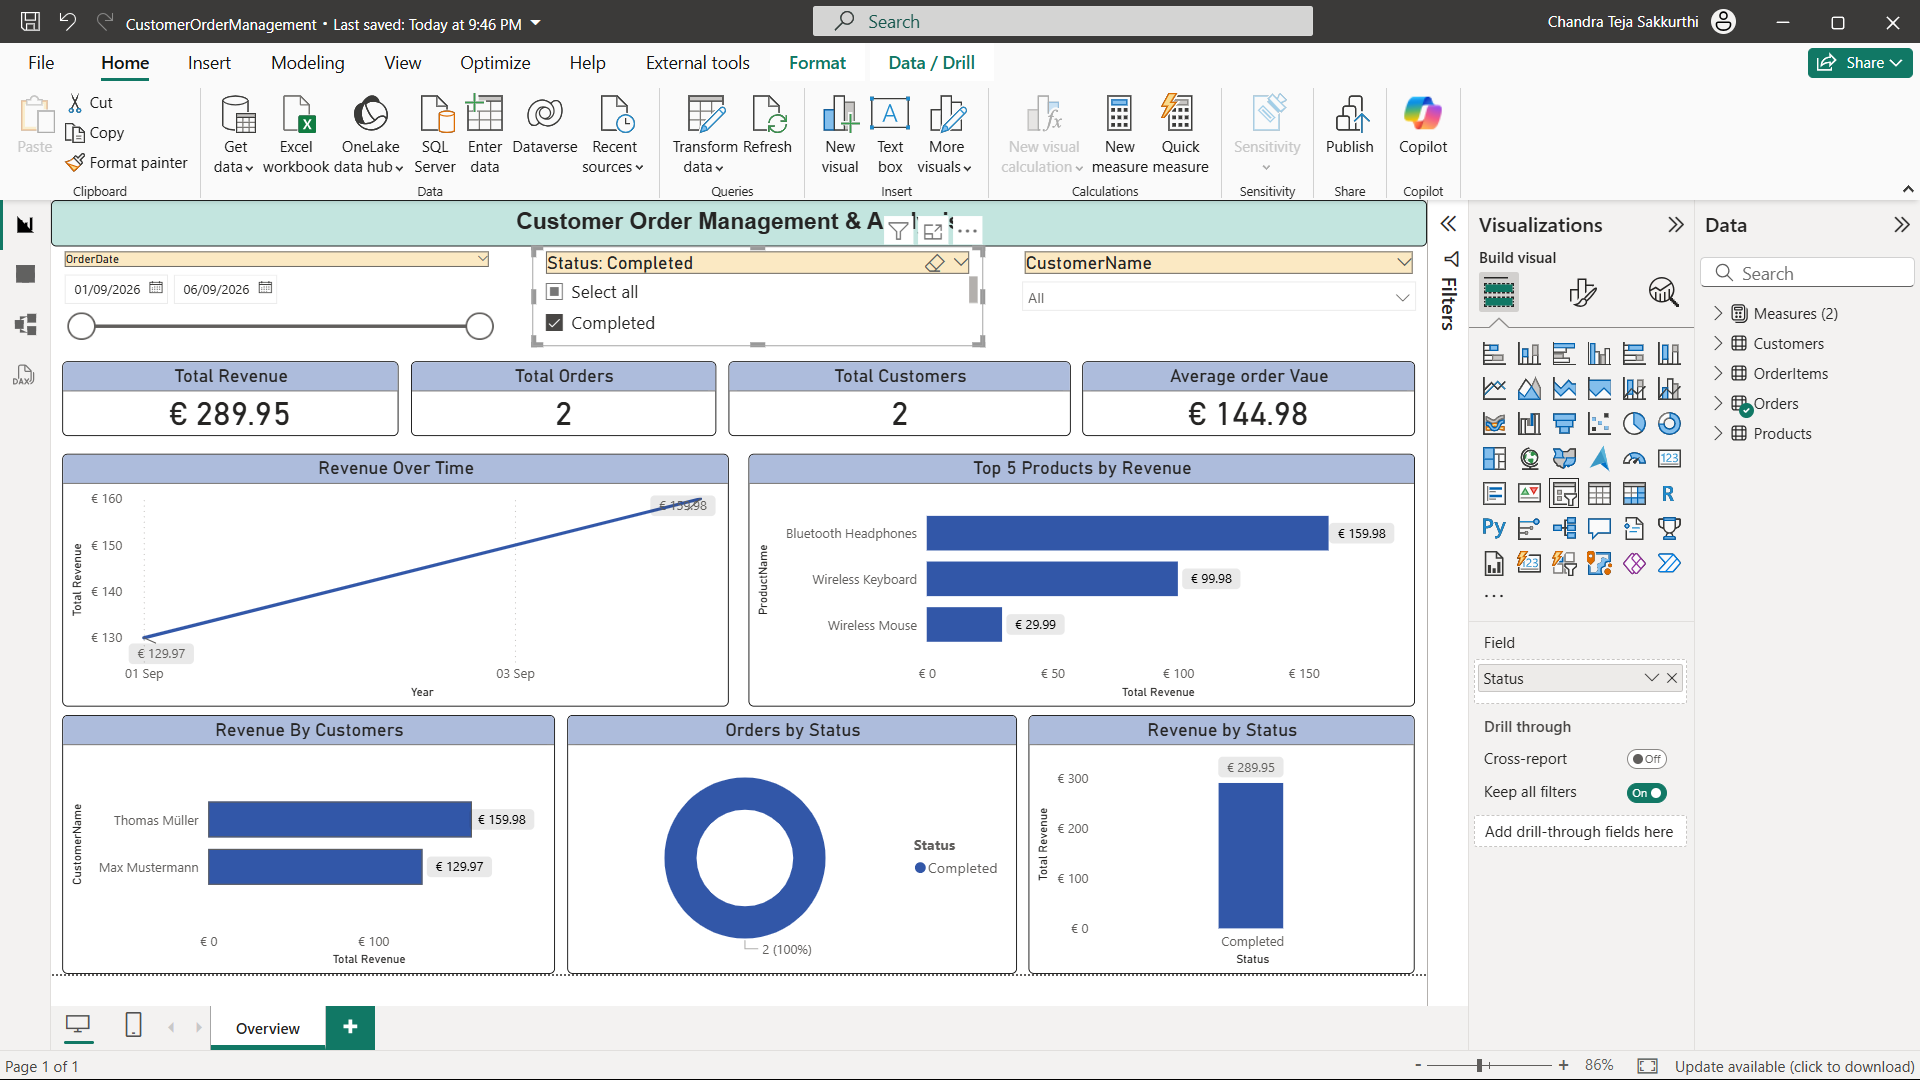

What the dashboard file says about the page in this screenshot:
{"tool":"powerbi","page":{"name":"Overview","canvas":[1280,720],"ordinal":0},"visuals":[{"type":"card","title":"Total Revenue","fields":{"Values":["Measures (2).Total Revenue"]},"box":[10.5,160.5,312.8,59.3],"z":0},{"type":"card","title":"Total Orders","fields":{"Values":["Measures (2).Total Orders"]},"box":[334.9,160.5,283.7,59.3],"z":1000},{"type":"card","title":"Total Customers","fields":{"Values":["Measures (2).Total Customers"]},"box":[630.2,160.5,318.6,59.3],"z":2000},{"type":"card","title":"Average order Vaue","fields":{"Values":["Measures (2).Average Order Value"]},"box":[959.3,160.5,309.3,59.3],"z":3000},{"type":"lineChart","title":"Revenue Over Time","fields":{"Y":["Measures (2).Total Revenue"],"Category":["Orders.OrderDate.Variation.Date Hierarchy.Year","Orders.OrderDate.Variation.Date Hierarchy.Quarter","Orders.OrderDate.Variation.Date Hierarchy.Month","Orders.OrderDate.Variation.Date Hierarchy.Day"]},"box":[10.5,236,619.8,234.9],"z":4000},{"type":"clusteredBarChart","title":"Revenue By Customers","fields":{"Category":["Customers.CustomerName"],"Y":["Measures (2).Total Revenue"],"Series":["Customers.CustomerID"]},"box":[10.5,479.1,458.1,240.7],"z":5000},{"type":"barChart","title":"Top 5 Products by Revenue","fields":{"Category":["Products.ProductName"],"Y":["Measures (2).Total Revenue"],"Series":["Products.ProductName"]},"box":[648.8,236,619.8,234.9],"z":6000},{"type":"slicer","title":"Date","fields":{"Values":["Orders.OrderDate"]},"box":[0,42.5,419.9,93.3],"z":7000},{"type":"slicer","fields":{"Values":["Orders.Status"]},"box":[447.7,43,419.8,93],"z":8000},{"type":"slicer","fields":{"Values":["Customers.CustomerName"]},"box":[893.3,42.5,387,93.3],"z":9000},{"type":"textbox","box":[0,0,1279.9,43],"z":10000},{"type":"clusteredColumnChart","title":"Revenue by Status","fields":{"Category":["Orders.Status"],"Y":["Measures (2).Total Revenue"],"Series":["Orders.Status"]},"box":[909.3,479.1,359.3,240.7],"z":11000},{"type":"donutChart","title":"Orders by Status","fields":{"Category":["Orders.Status"],"Y":["Measures (2).Total Orders by Product"]},"box":[480.2,479.1,418.6,240.7],"z":12000}]}

Visuals, with their boxes on the page's 1280x720 design canvas (x1, y1, x2, y2). These are canvas units, not pixel positions in the 1920x1080 screenshot, which may show the page scaled, cropped or inside an application window:
"Total Revenue" card: 10 160 323 220
"Total Orders" card: 335 160 619 220
"Total Customers" card: 630 160 949 220
"Average order Vaue" card: 959 160 1269 220
"Revenue Over Time" lineChart: 10 236 630 471
"Revenue By Customers" clusteredBarChart: 10 479 469 720
"Top 5 Products by Revenue" barChart: 649 236 1269 471
"Date" slicer: 0 42 420 136
slicer - Orders.Status: 448 43 868 136
slicer - Customers.CustomerName: 893 42 1280 136
textbox: 0 0 1280 43
"Revenue by Status" clusteredColumnChart: 909 479 1269 720
"Orders by Status" donutChart: 480 479 899 720
